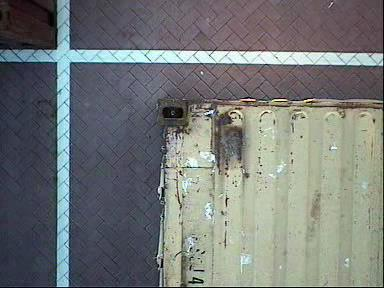groundmarker_2: (1, 197, 70, 257)
